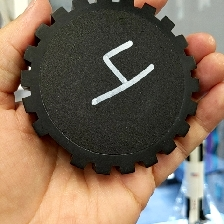gear: (19, 1, 200, 175)
missing: (31, 116, 88, 170)
